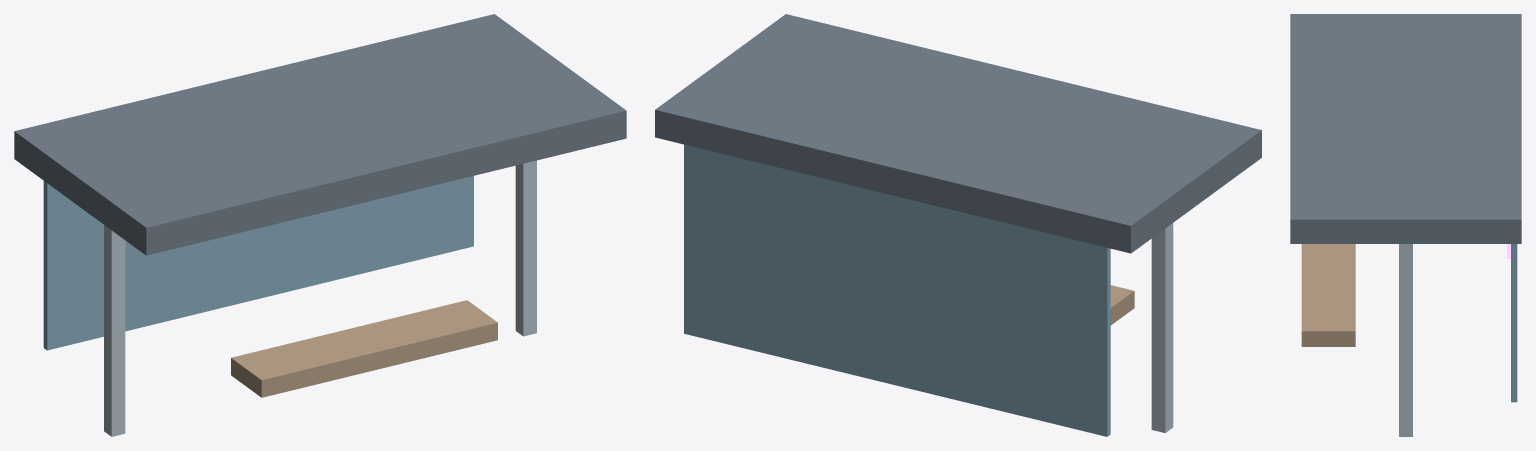
Rendered from busstop.glb.
3 views of the same model, side by side, from view 1: azimuth 30°, elevation 25°; view 2: azimuth 150°, elevation 25°; view 3: azimuth 270°, elevation 25° (orthographic). The views are drawn at different scales.
Parts seen in each view (by area): view 1: roof, glass, wood, alum; view 2: glass, roof, alum, wood; view 3: roof, wood, alum, glass.
Boxes of the visible parts, box(x1,y1,x2,y2) form: roof: box(14, 14, 626, 255); glass: box(43, 176, 473, 350); wood: box(231, 300, 497, 397); alum: box(104, 160, 536, 436); glass: box(684, 144, 1110, 436); roof: box(655, 14, 1261, 253); alum: box(1151, 223, 1173, 432); wood: box(1110, 285, 1134, 325); roof: box(1290, 14, 1521, 243); wood: box(1301, 244, 1355, 346); alum: box(1399, 244, 1412, 436); glass: box(1511, 244, 1517, 402).
Bounding box in the file's own units: 6.3 × 3.28 × 3.
